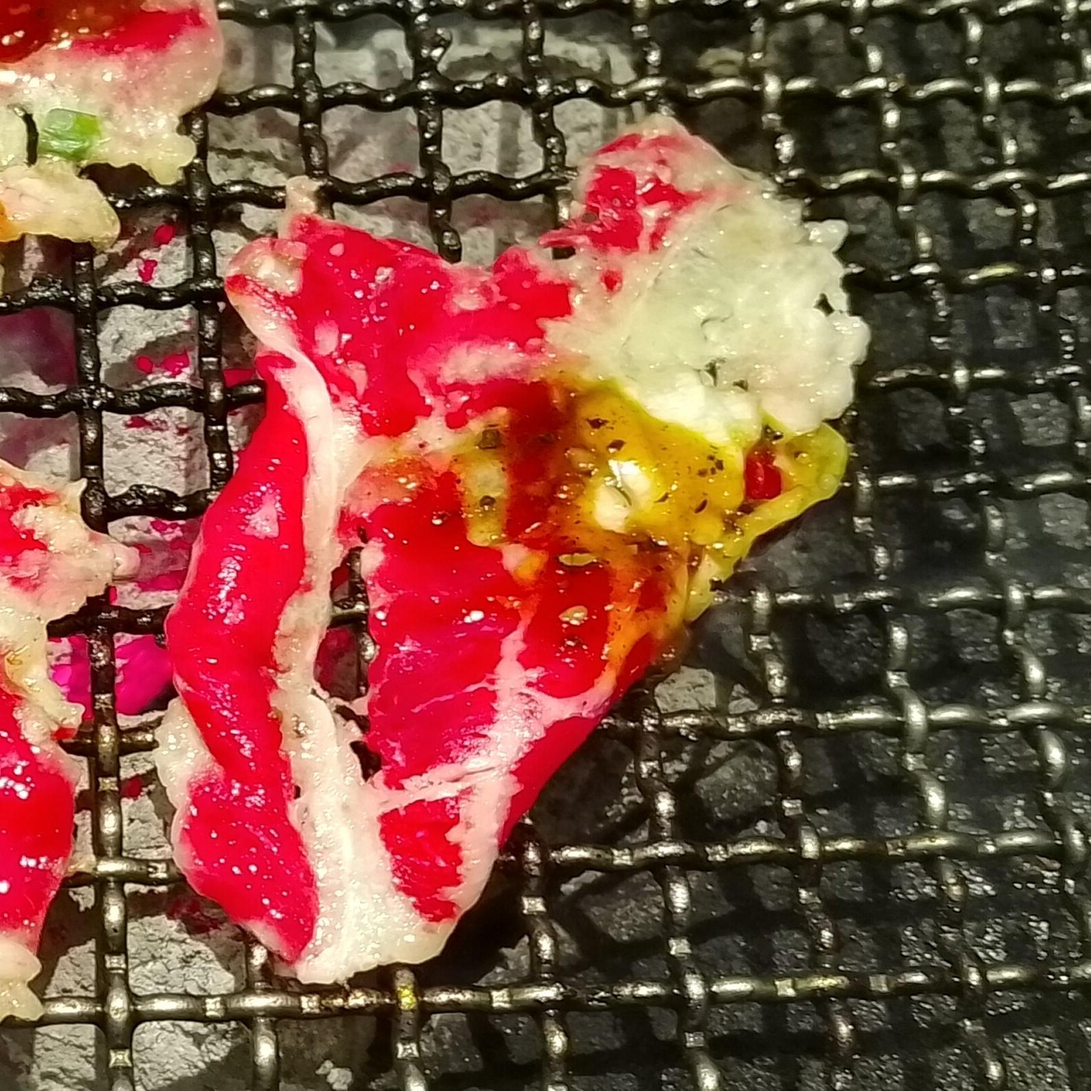Undercooked: (124, 112, 873, 993), (0, 431, 135, 1017), (0, 0, 226, 180)
